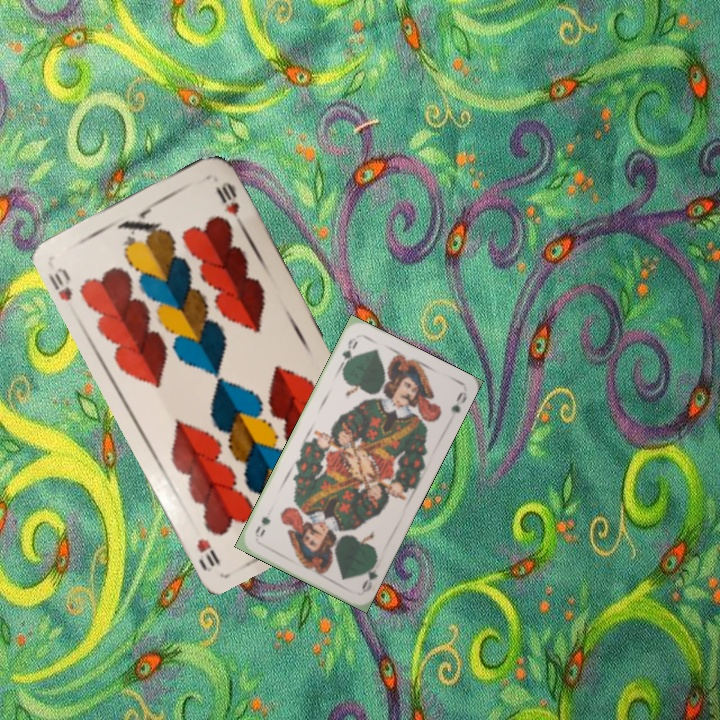GO: (335, 333, 360, 372), (358, 555, 380, 595)
H10: (45, 263, 75, 304)
